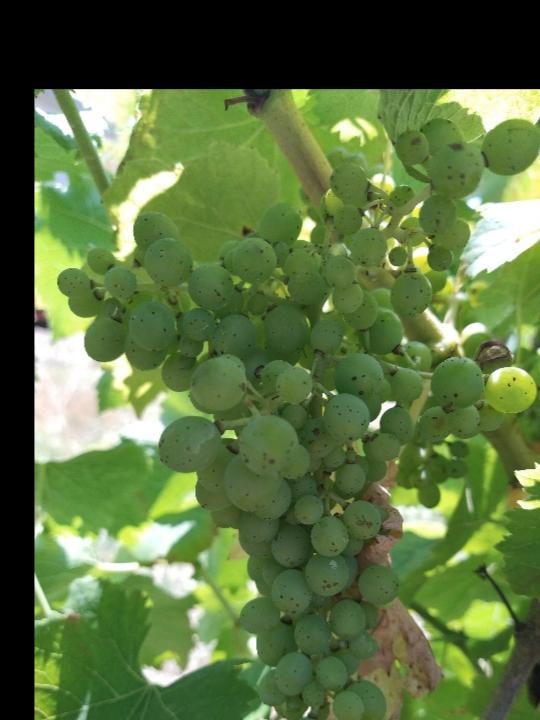grape: (54, 118, 540, 720)
